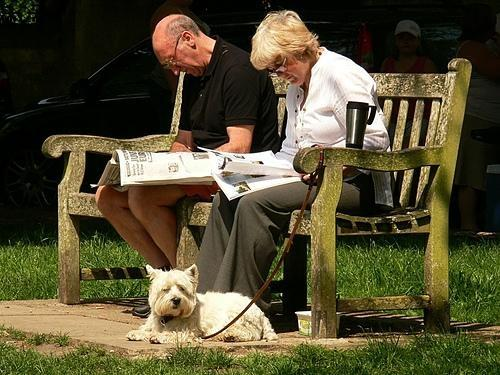car: (2, 23, 466, 225)
